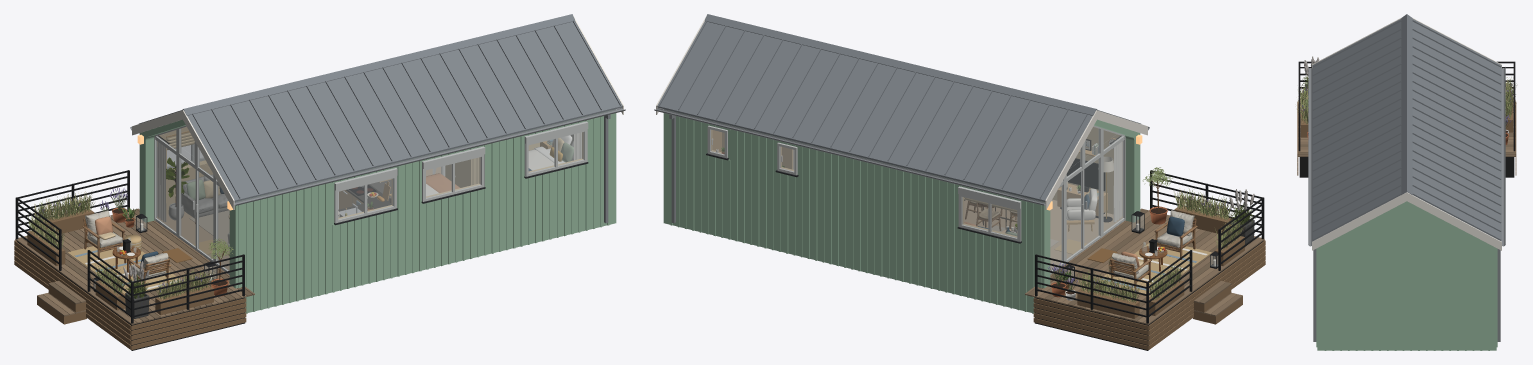
File: sirius40.glb
The picture shows the model from 3 angles, left to right: view 1: azimuth 30°, elevation 25°; view 2: azimuth 150°, elevation 25°; view 3: azimuth 270°, elevation 25°; orthographic projection. The views are drawn at different scales.
Parts seen in each view (by area): view 1: Couverture bac acier, Coque, Couvre-joints, Jupe bardage, Habillage terrasse, Garde-corps, Verrière, Vitrages fenêtres, Joints debout, Faîtière, Terrasse lames 0, Déco terrasse · bois (+24 smaller); view 2: Couverture bac acier, Coque, Couvre-joints, Jupe bardage, Habillage terrasse, Verrière, Garde-corps, Joints debout, Faîtière, Terrasse lames 0, Déco terrasse · bois, Déco terrasse · graminee (+21 smaller); view 3: Couverture bac acier, Coque, Joints debout, Couvre-joints, Jupe bardage, Coque (toit), Planches de rive, Faîtière, Gouttières, Couvre-joints (toit), Descentes EP, Garde-corps (+8 smaller).
Boxes of the visible parts, box(x1,y1,x2,y2) form: Couverture bac acier: box(187, 21, 622, 201); Coque: box(139, 109, 616, 288); Couvre-joints: box(238, 116, 609, 313); Jupe bardage: box(235, 195, 616, 312); Habillage terrasse: box(14, 240, 246, 349); Garde-corps: box(15, 170, 244, 323); Verrière: box(156, 134, 229, 270); Vitrages fenêtres: box(167, 132, 583, 219); Joints debout: box(139, 20, 620, 198); Faîtière: box(181, 14, 575, 115); Terrasse lames 0: box(15, 208, 254, 324); Déco terrasse · bois: box(27, 209, 213, 315); Couverture bac acier: box(657, 21, 1092, 201); Coque: box(663, 109, 1140, 288); Couvre-joints: box(670, 116, 1041, 313); Jupe bardage: box(663, 195, 1042, 312); Habillage terrasse: box(1033, 240, 1265, 349); Verrière: box(1050, 134, 1123, 270); Garde-corps: box(1035, 170, 1264, 323); Joints debout: box(659, 20, 1140, 198); Faîtière: box(704, 14, 1098, 115); Terrasse lames 0: box(1025, 208, 1264, 324); Déco terrasse · bois: box(1077, 206, 1244, 318); Déco terrasse · graminee: box(1077, 189, 1244, 302); Couverture bac acier: box(1312, 19, 1501, 241); Coque: box(1317, 239, 1496, 324); Joints debout: box(1312, 20, 1501, 240); Couvre-joints: box(1316, 239, 1497, 350); Jupe bardage: box(1317, 324, 1496, 350); Coque (toit): box(1334, 201, 1479, 239); Planches de rive: box(1312, 18, 1501, 250); Faîtière: box(1401, 14, 1412, 194); Gouttières: box(1308, 67, 1505, 246); Couvre-joints (toit): box(1340, 203, 1474, 239); Descentes EP: box(1313, 249, 1500, 341); Garde-corps: box(1298, 61, 1515, 151).
Size of the model in its own units: 13.73 by 4.35 by 5.47.
Materials: 117 (24 with a texture image).
